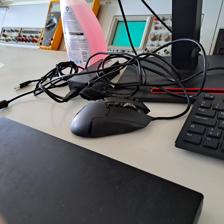mouse: (69, 97, 152, 139)
